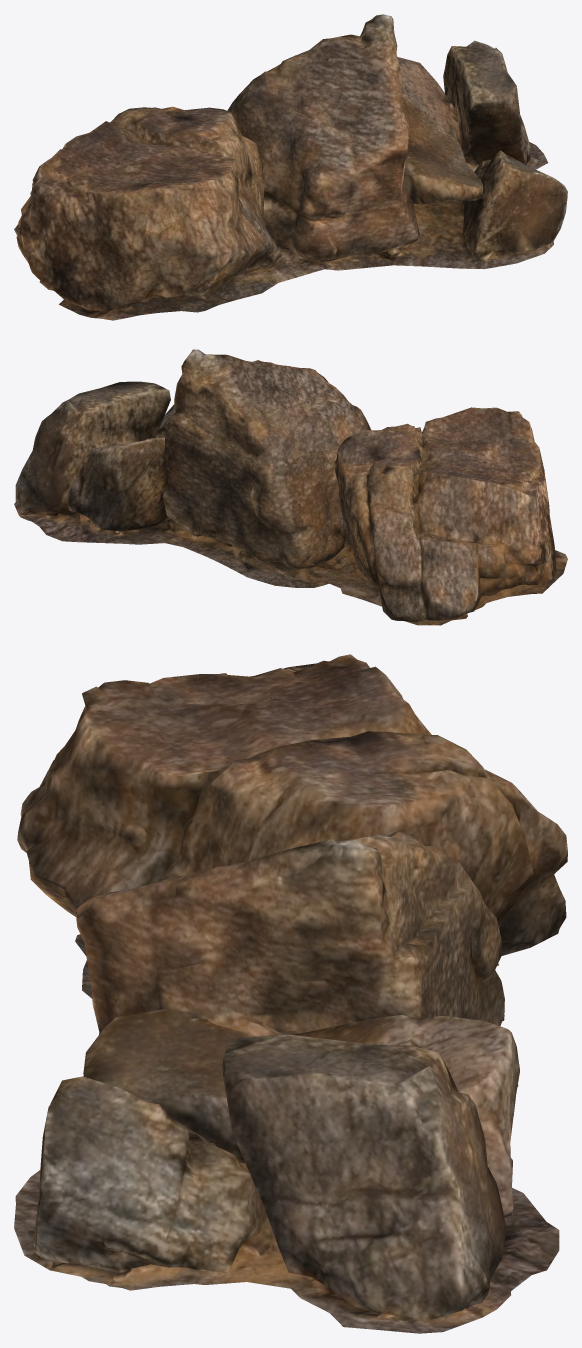
File: namaqualand_boulder_02.glb
3 views of the same model, one above another, from view 1: azimuth 30°, elevation 25°; view 2: azimuth 150°, elevation 25°; view 3: azimuth 270°, elevation 25° (orthographic). The views are drawn at different scales.
Visible parts, largest first — view 1: boulder_02; view 2: boulder_02; view 3: boulder_02.
Boxes of the visible parts, x1=… form: boulder_02: x1=14, y1=14, x2=567, y2=320; boulder_02: x1=14, y1=349, x2=567, y2=625; boulder_02: x1=14, y1=654, x2=567, y2=1333.
Bounding box in the file's own units: 2.52 × 0.8804 × 1.23.
Materials: 1 (1 with a texture image).
